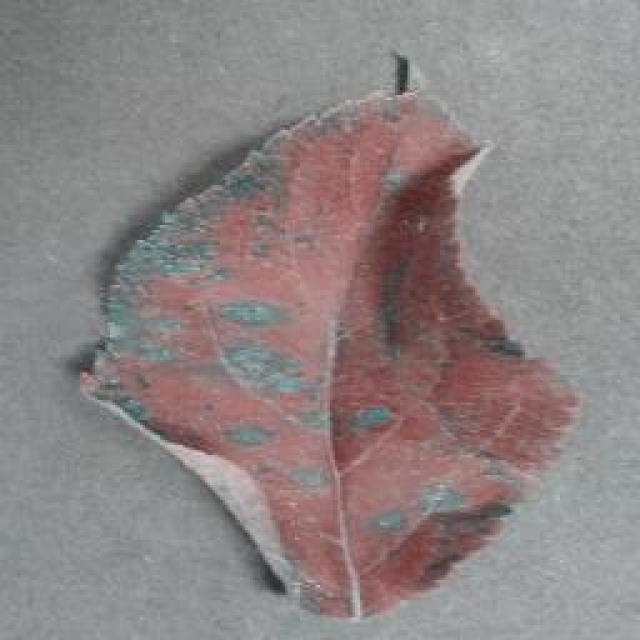apple rust disease: (75, 55, 583, 620)
